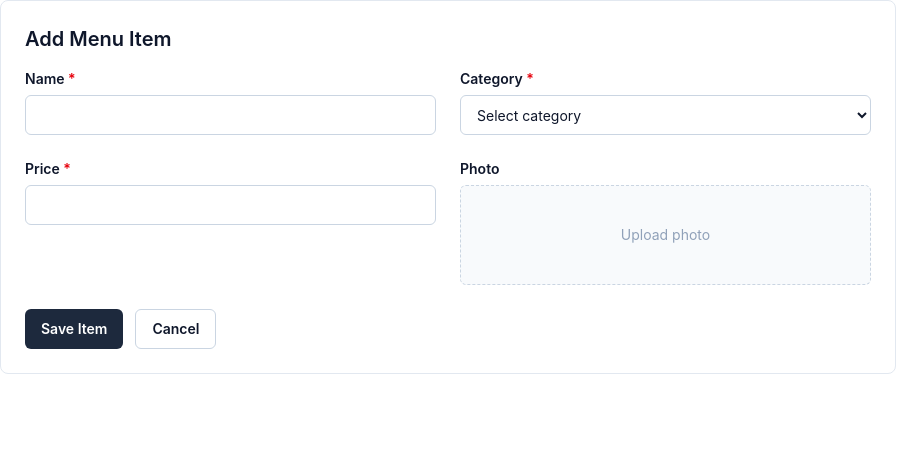
Test case: AddMenuItemForm › AC2 — price must be a positive number › reject: a price of "0" shows the banner and "Price must be greater than zero", and no POST is attempted (matches cafe-menu-add-error.png)
In the field labelled "Name *": (230, 115) [25,95,436,135], type "Spring Rolls"
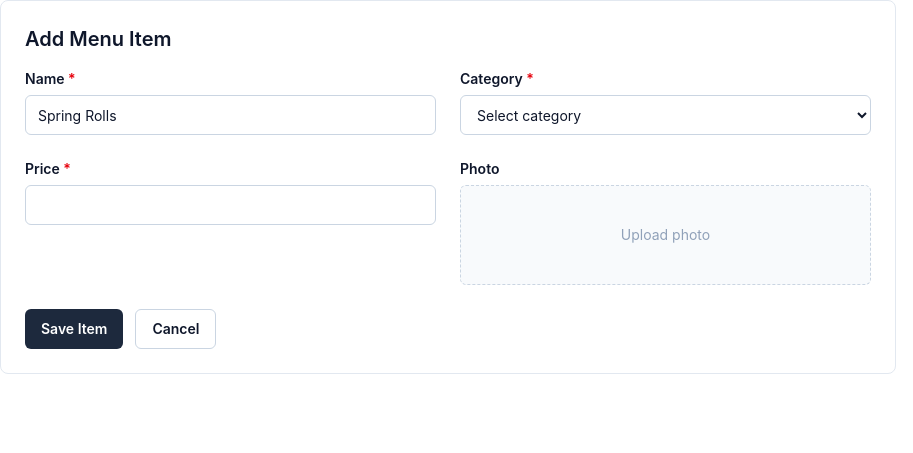
Select "cat-1" in the dropdown labelled "Category *": (666, 115) [460,95,871,135]
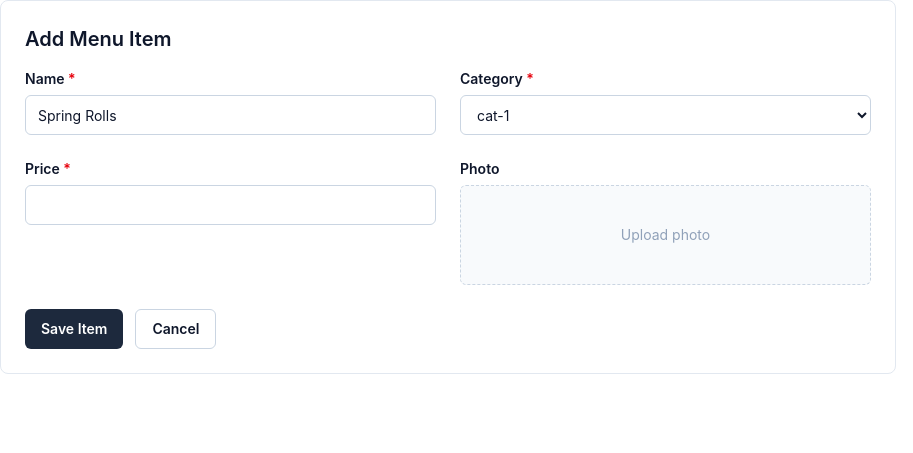
In the number field labelled "Price *": (230, 205) [25,185,436,225], type "0"
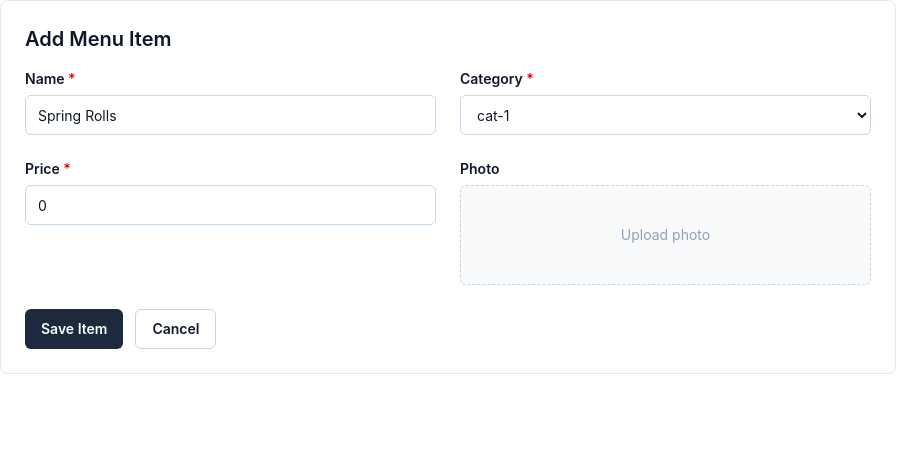
Click the button "Save Item": (74, 329) [25,309,124,349]
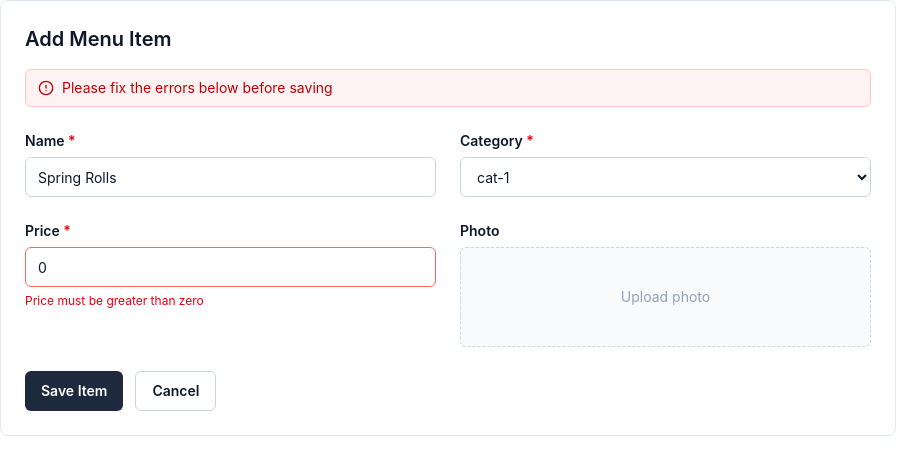
Check: the text "Price must be greater than zero" is shown, box [25,293,204,308]
Check: the text "Please fix the errors below before saving" is shown, box [25,69,871,107]
